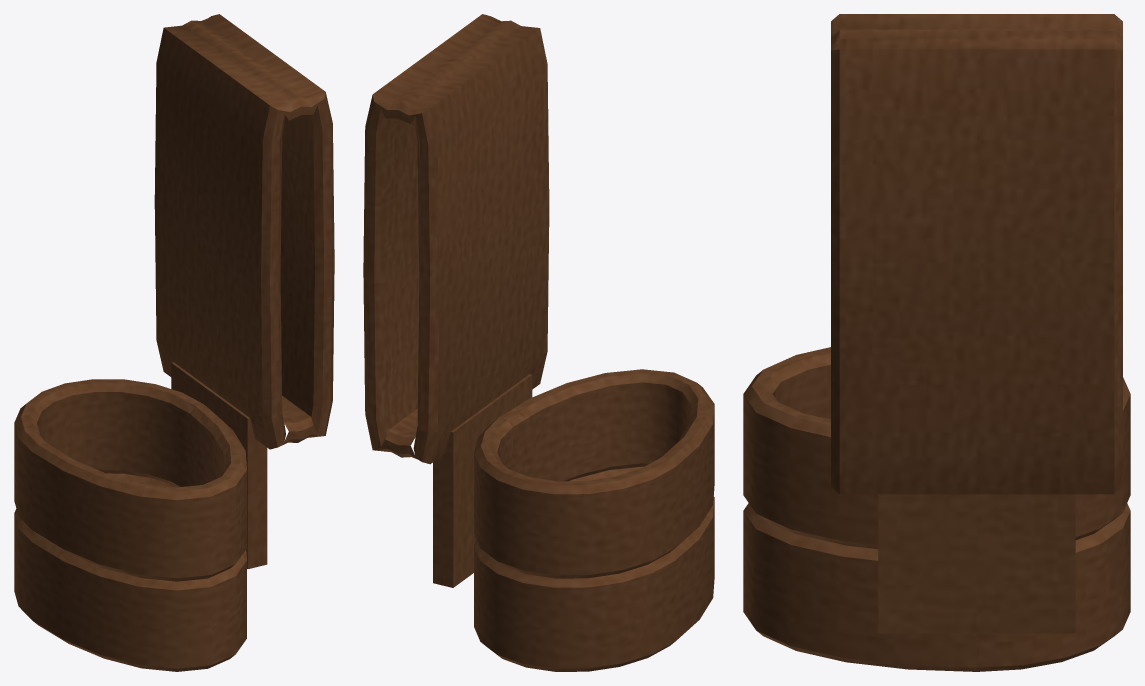
Rendered from tomahawk_frog.glb.
3 renders of one model, left to right at view 1: azimuth 30°, elevation 25°; view 2: azimuth 150°, elevation 25°; view 3: azimuth 270°, elevation 25°, orthographic. The views are drawn at different scales.
Parts seen in each view (by area): view 1: TomahawkFrog; view 2: TomahawkFrog; view 3: TomahawkFrog.
Part boxes in pixels (x1,y1,x2,y2): TomahawkFrog: [14, 14, 334, 671]; TomahawkFrog: [363, 14, 714, 671]; TomahawkFrog: [743, 14, 1130, 671].
Bounding box in the file's own units: 0.0433 × 0.0856 × 0.0451.
1 material, 1 textured.
